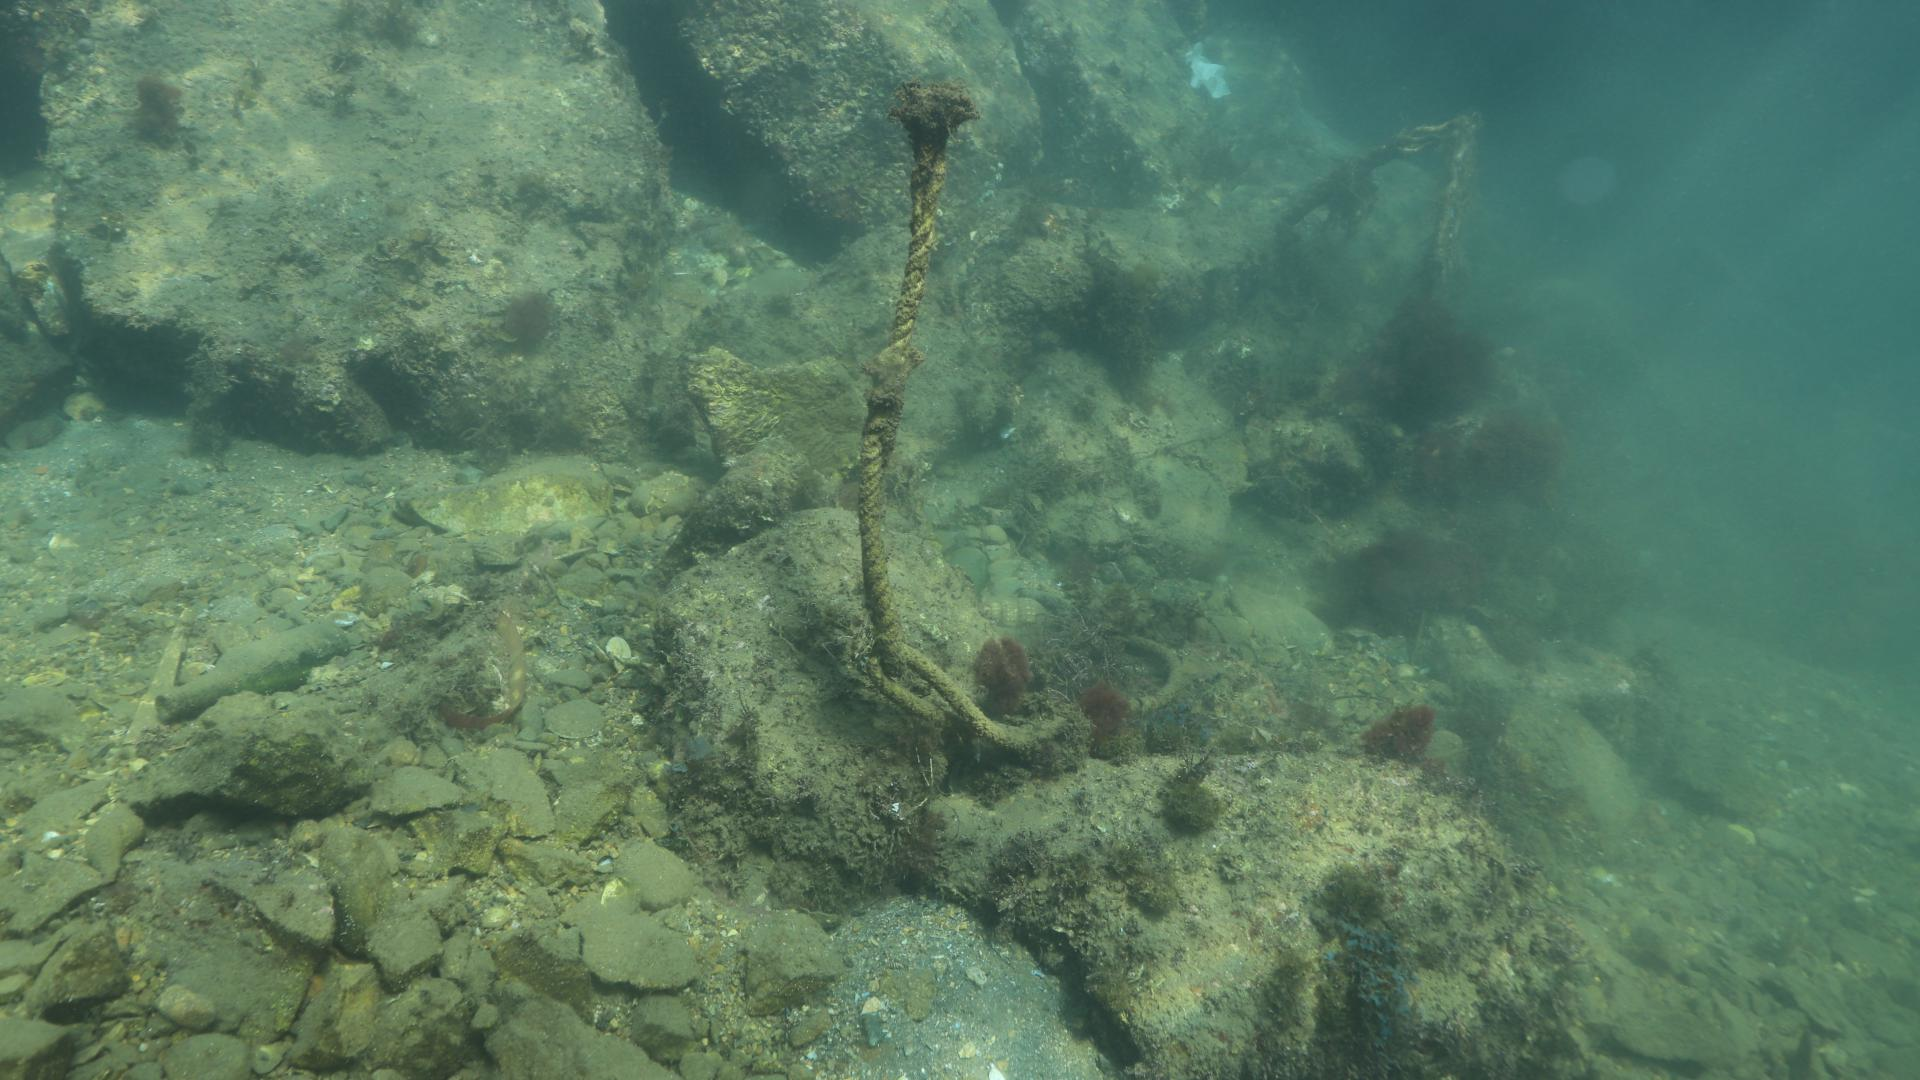bundle of ropes: (855, 135, 1185, 749)
